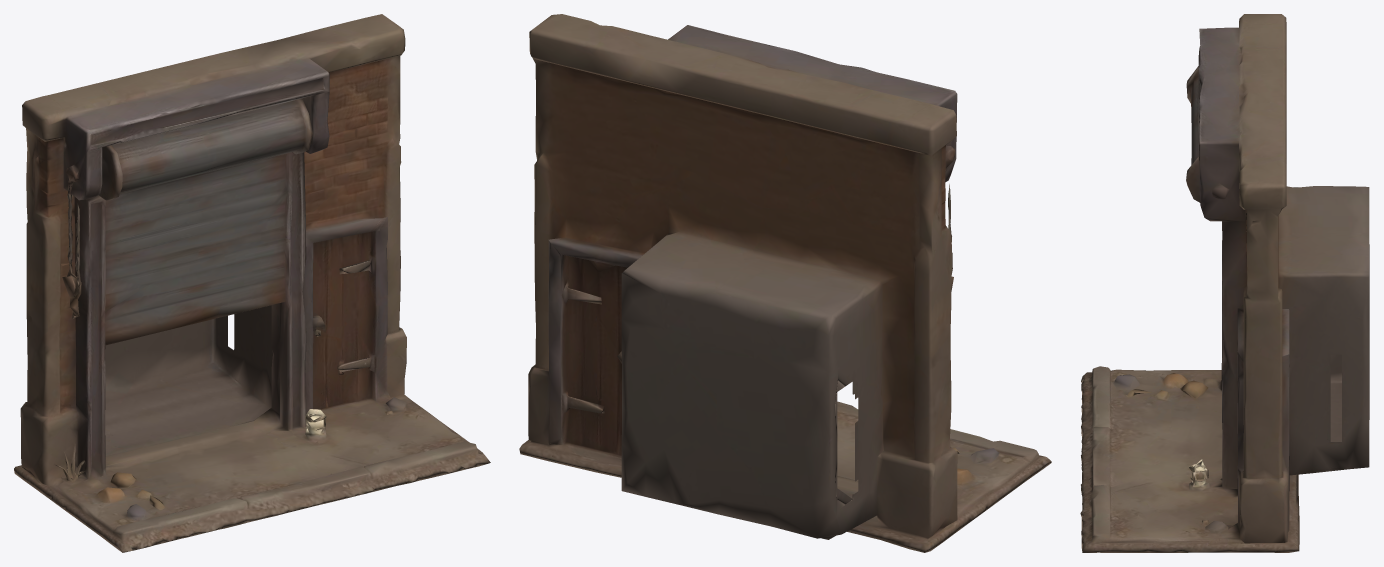
Rendered from garage_shutter.glb.
3 renders of one model, left to right at view 1: azimuth 30°, elevation 25°; view 2: azimuth 150°, elevation 25°; view 3: azimuth 270°, elevation 25°, orthographic. The views are drawn at different scales.
Parts seen in each view (by area): view 1: tripo_node_c8dac04c-18b2-4e27-a2ca-d5218057d20d; view 2: tripo_node_c8dac04c-18b2-4e27-a2ca-d5218057d20d; view 3: tripo_node_c8dac04c-18b2-4e27-a2ca-d5218057d20d.
Part boxes in pixels (bbox=[...]): tripo_node_c8dac04c-18b2-4e27-a2ca-d5218057d20d: bbox=[14, 14, 490, 552]; tripo_node_c8dac04c-18b2-4e27-a2ca-d5218057d20d: bbox=[519, 14, 1051, 552]; tripo_node_c8dac04c-18b2-4e27-a2ca-d5218057d20d: bbox=[1080, 14, 1369, 552].
Bounding box in the file's own units: 1 × 0.9753 × 0.6966.
Materials: 1 (1 with a texture image).
